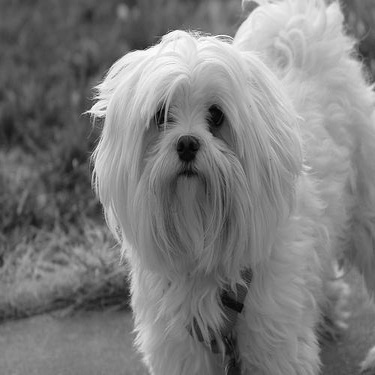dog: (74, 4, 370, 369)
